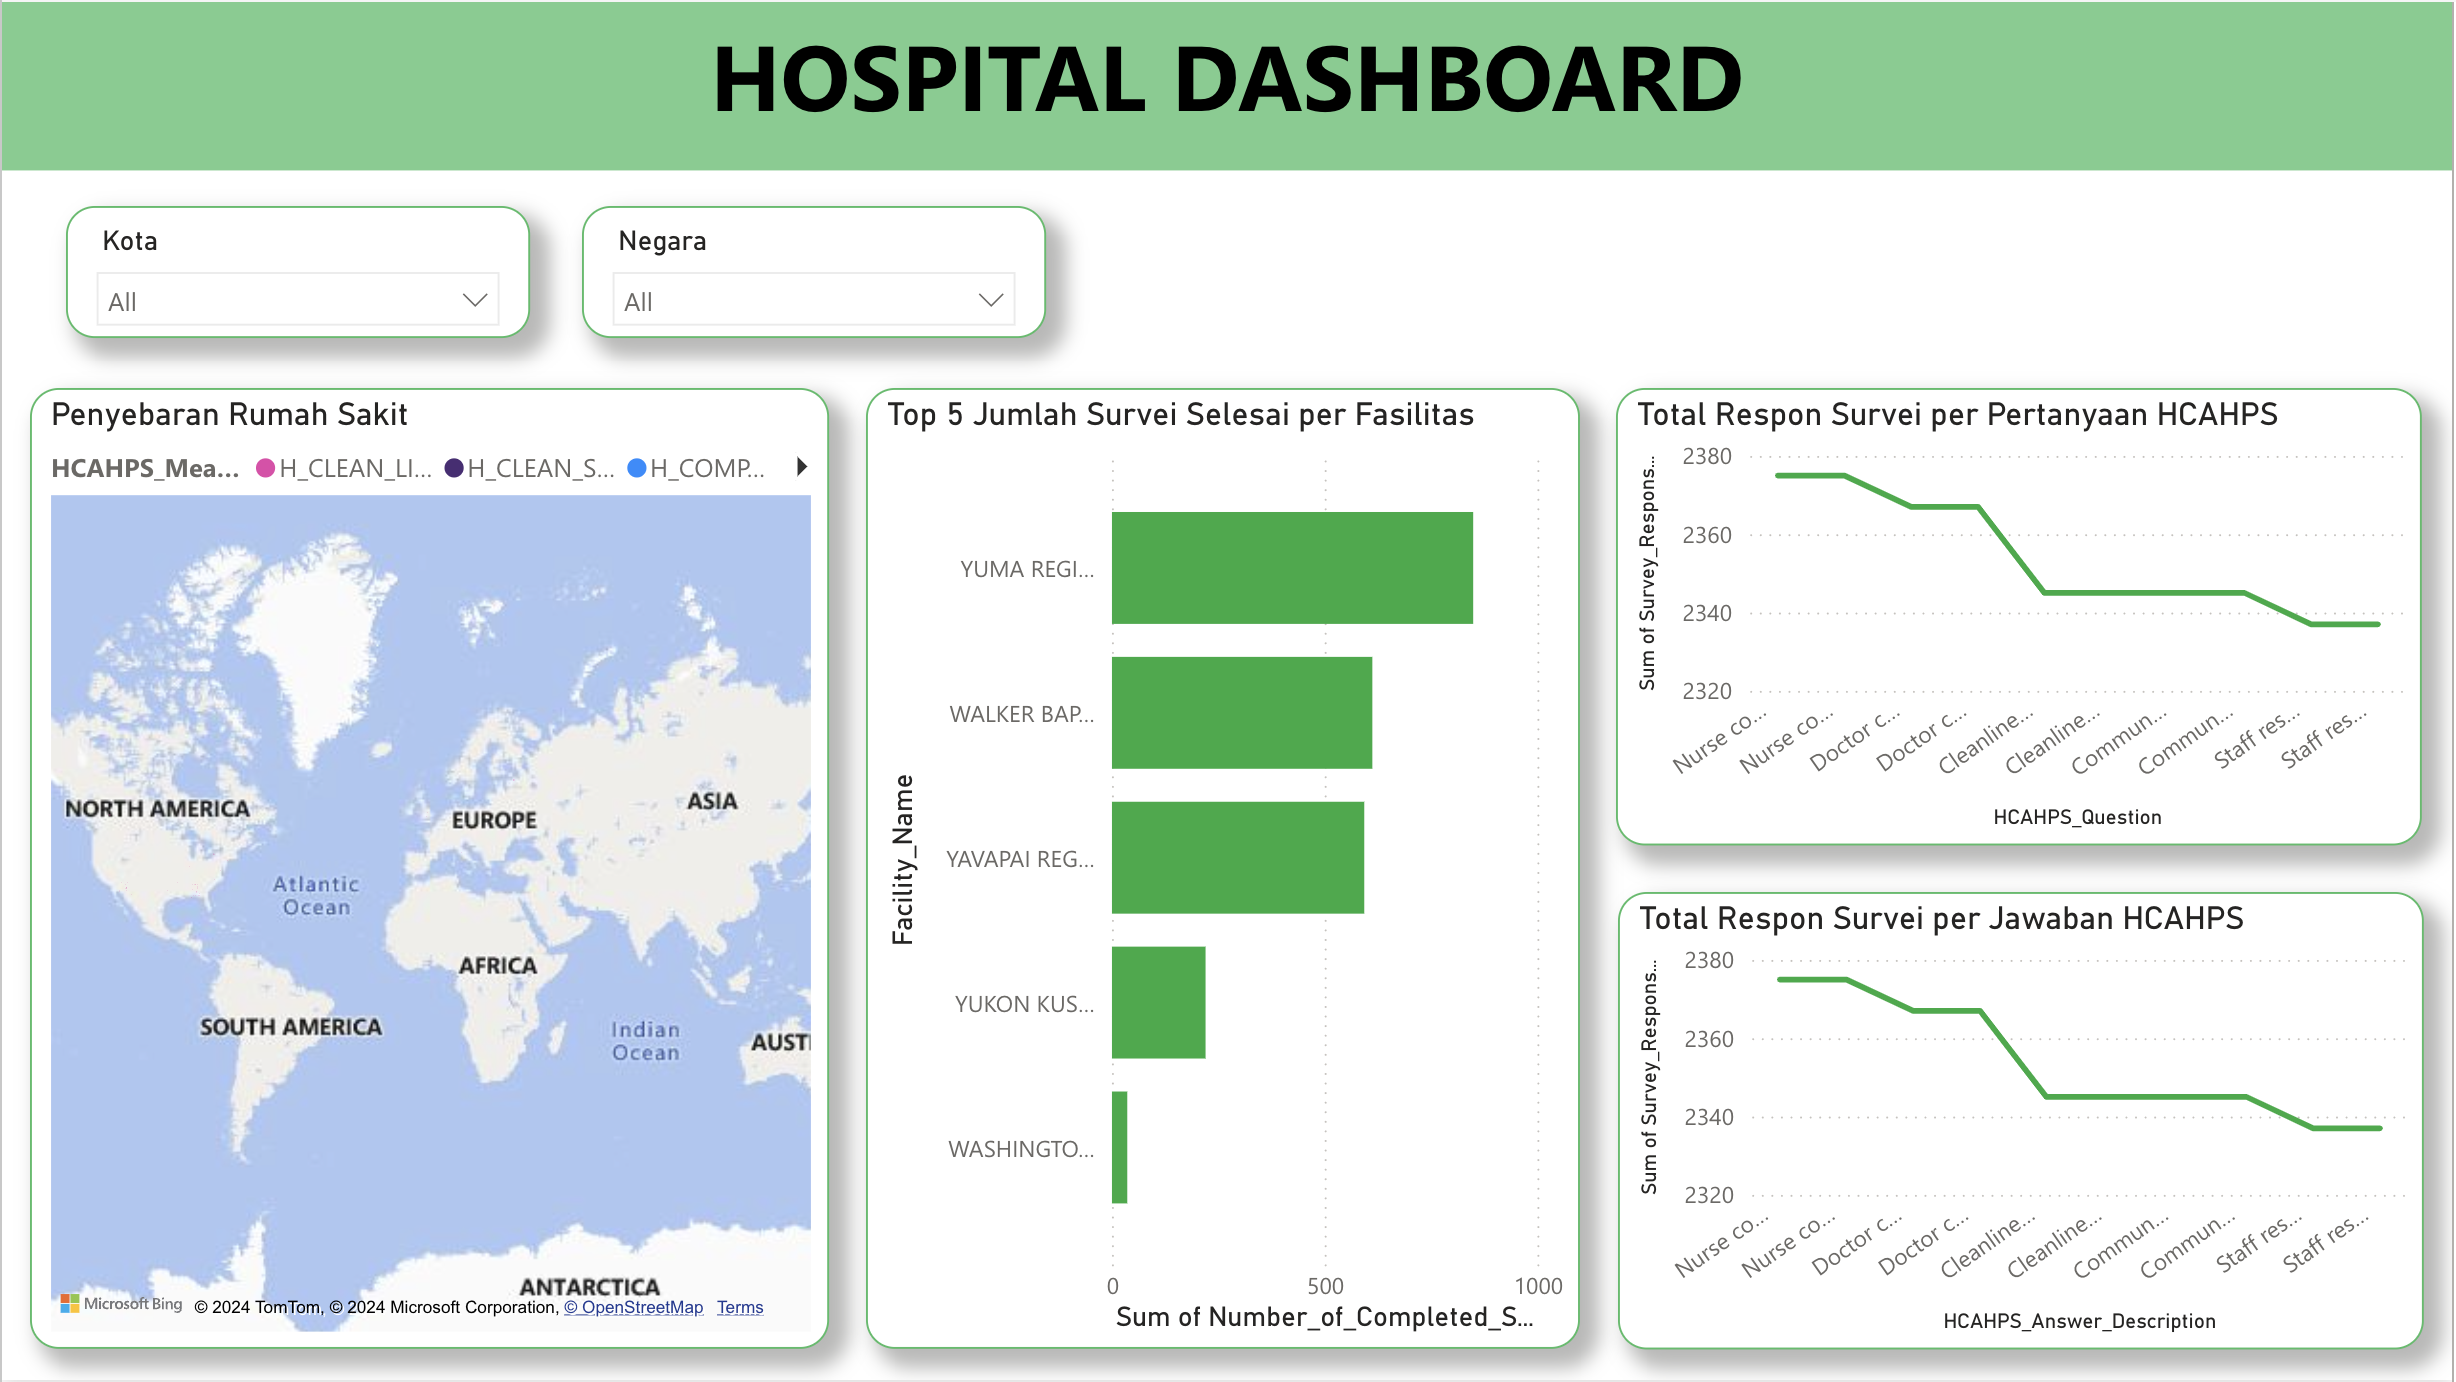

Layout of this report page (visuals, bound fields, positions):
{"tool":"powerbi","page":{"name":"Pane 2","canvas":[1280,720],"ordinal":1},"visuals":[{"type":"textbox","box":[0,0,1280,88.1],"z":0},{"type":"filledMap","title":"Penyebaran Rumah Sakit","fields":{"Category":["Facility.City","Facility.State"],"Series":["Survey Tables.HCAHPS_Measure_ID"]},"box":[14.5,201.5,417.4,501.9],"z":1000},{"type":"slicer","fields":{"Values":["Facility.City"]},"box":[33.8,106.2,242.5,68.8],"z":2000},{"type":"slicer","fields":{"Values":["Facility.State"]},"box":[302.8,106.2,242.5,68.8],"z":3000},{"type":"barChart","title":"Top 5 Jumlah Survei Selesai per Fasilitas","fields":{"Category":["Facility.Facility_Name"],"Y":["Sum(Facility.Number_of_Completed_Surveys)"]},"box":[451.2,201.5,372.8,501.9],"z":4000},{"type":"lineChart","title":"Total Respon Survei per Pertanyaan HCAHPS","fields":{"Category":["HCAHPS.HCAHPS_Question"],"Y":["Sum(Survey Tables.Survey_Response_Rate_Percent)"]},"box":[843.3,201.5,421,238.9],"z":5000},{"type":"lineChart","title":"Total Respon Survei per Jawaban HCAHPS","fields":{"Y":["Sum(Survey Tables.Survey_Response_Rate_Percent)"],"Category":["HCAHPS.HCAHPS_Answer_Description"]},"box":[844.5,464.5,421,238.9],"z":6000}]}

Visuals, with their boxes in screenshot pixels (x1, y1, x2, y2), scaled from the page's 1280x720 canvas onto the 2456x1382 screenshot:
textbox: (0,0,2455,169)
"Penyebaran Rumah Sakit" filledMap: (28,387,829,1350)
slicer - Facility.City: (65,204,530,336)
slicer - Facility.State: (581,204,1046,336)
"Top 5 Jumlah Survei Selesai per Fasilitas" barChart: (866,387,1581,1350)
"Total Respon Survei per Pertanyaan HCAHPS" lineChart: (1618,387,2426,845)
"Total Respon Survei per Jawaban HCAHPS" lineChart: (1620,892,2428,1350)
